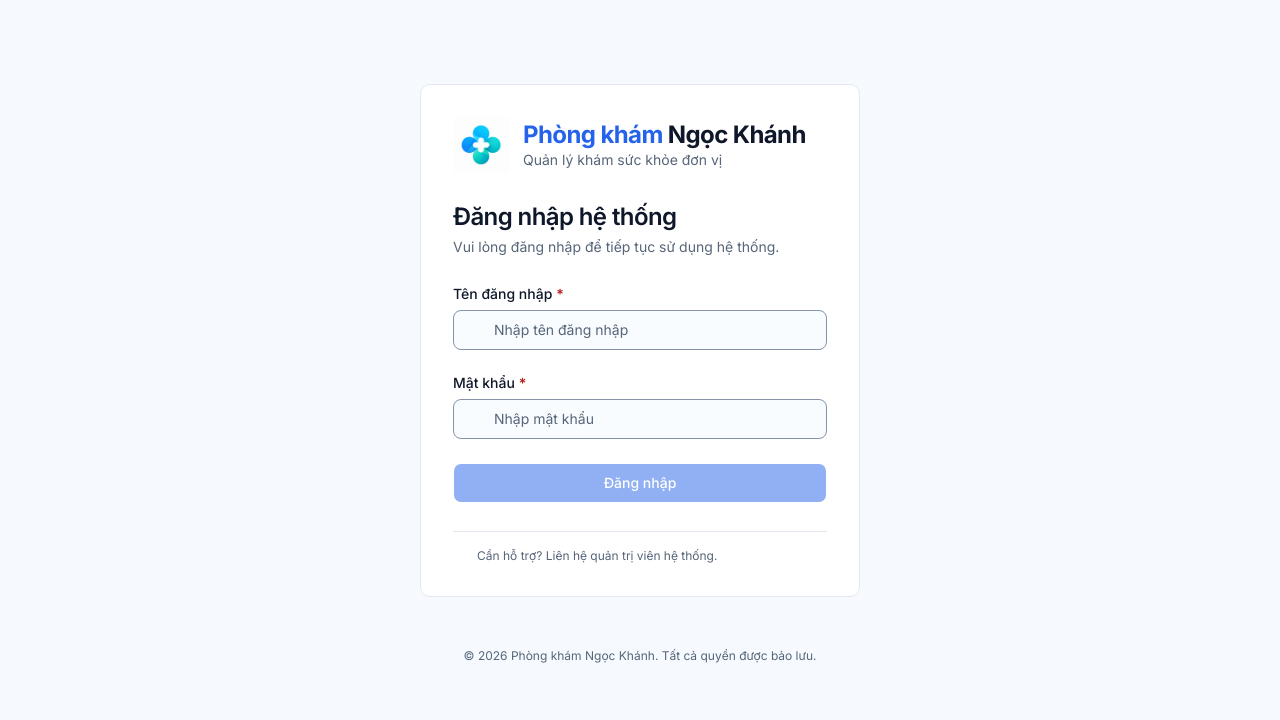
staff login screen › honors Retry-After and blocks duplicate attempts
Type "staff.test" into the field with placeholder "Nhập tên đăng nhập". click: (640,330)
box: x1=453 y1=310 x2=827 y2=350
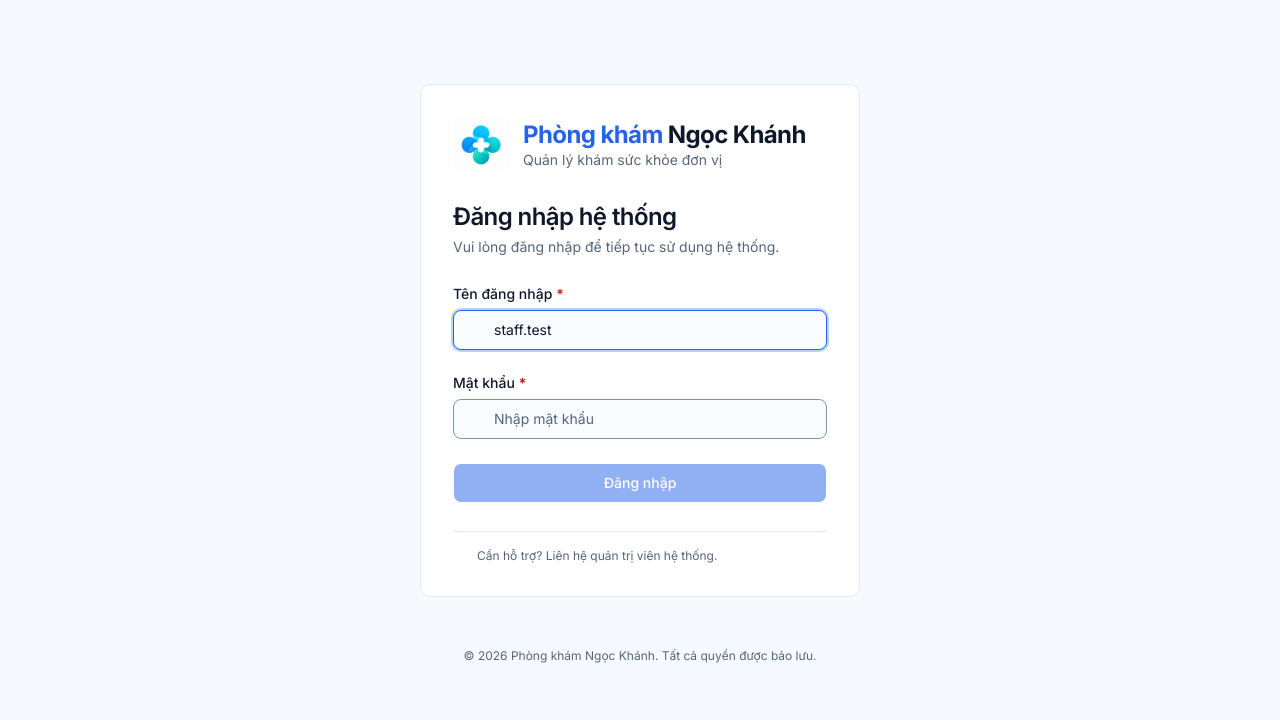
Type "secret" into the password field with placeholder "Nhập mật khẩu". click: (640,418)
box: x1=453 y1=398 x2=827 y2=438
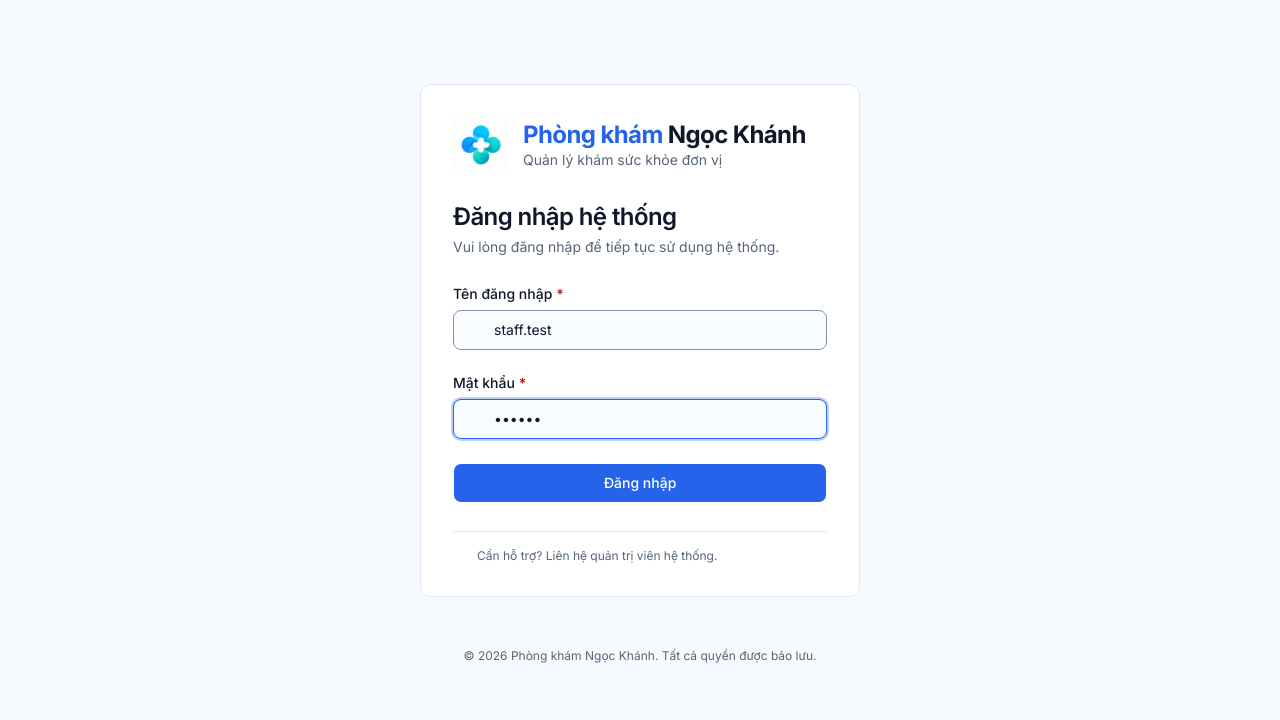
Click the button "Đăng nhập". click: (640,482)
box: x1=453 y1=462 x2=827 y2=502
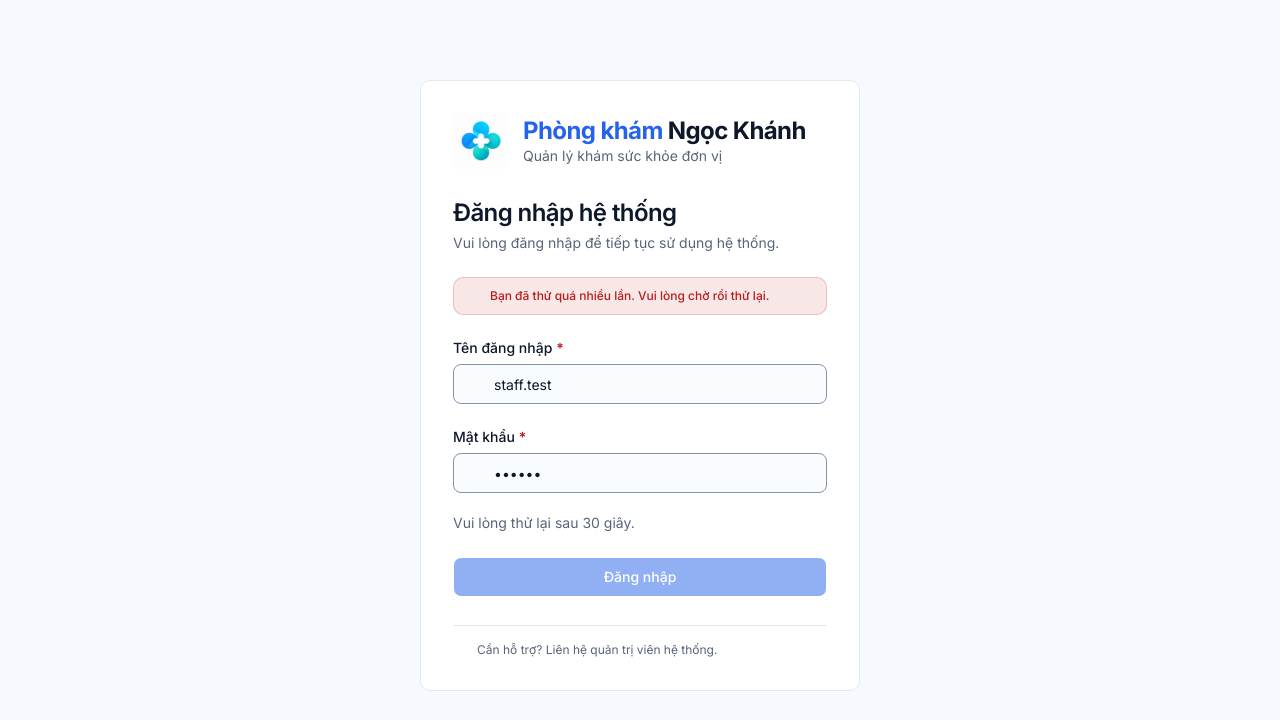
Expected: the text "Vui lòng thử lại sau 30 giây." is shown, x1=453 y1=514 x2=635 y2=531
Expected: the button "Đăng nhập" is disabled, x1=453 y1=557 x2=827 y2=597
